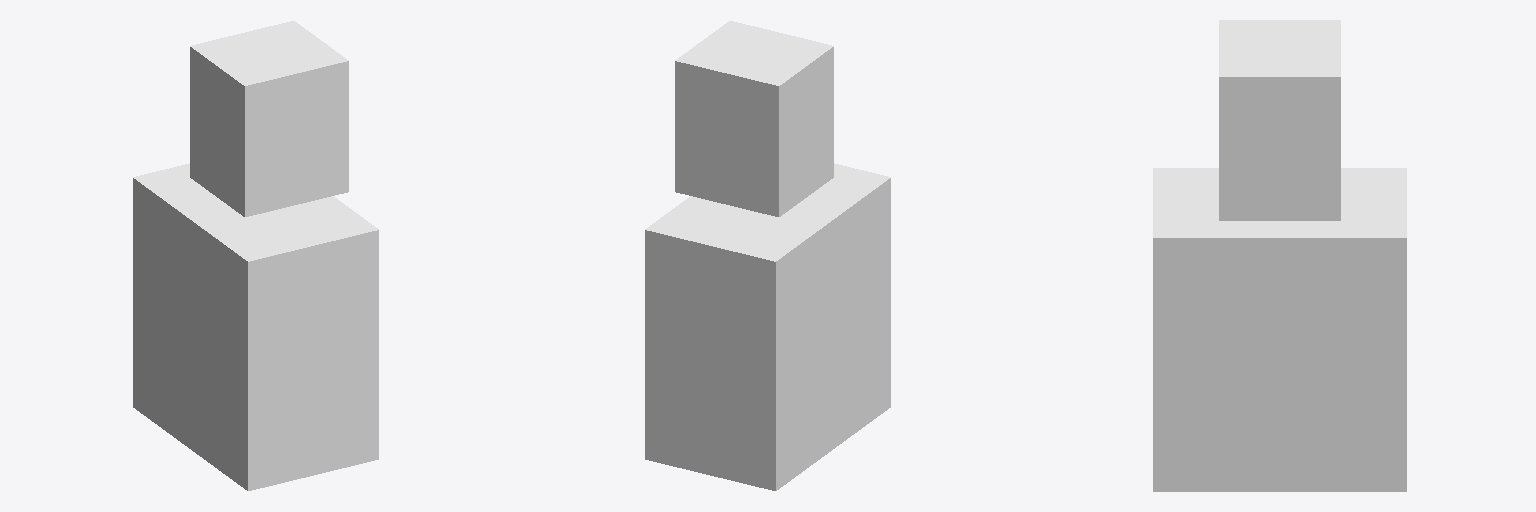
URDF robot description (yubi_hands):
<?xml version="1.0"?>
<!-- Expanded by hand from airoa-org/yubi-sw yubi_description/urdf/yubi_hand.urdf.xacro
     (collision geometry dropped; mesh paths point at package://yubi_description/meshes) -->
<robot name="yubi_hands">
  <material name="yubi_gray">
    <color rgba="1.0 1.0 1.0 1"/>
  </material>

  <link name="quest_origin"/>
  <link name="quest_right_controller"/>
  <link name="quest_left_controller"/>

  <!-- right hand -->
  <link name="right_hand_root">
    <visual>
      <origin xyz="-0.022 0 -0.02015" rpy="0 0 0"/>
      <geometry><box size="0.044 0.067 0.0735"/></geometry>
      <material name="yubi_gray"/>
    </visual>
  </link>
  <joint name="right_camera_joint" type="fixed">
    <origin xyz="0 0 0.0426" rpy="0 0 0"/>
    <parent link="right_hand_root"/>
    <child link="right_hand_cam_link"/>
  </joint>
  <link name="right_hand_cam_link">
    <visual>
      <origin xyz="-0.0175 0 0" rpy="0 0 0"/>
      <geometry><box size="0.035 0.032 0.042"/></geometry>
      <material name="yubi_gray"/>
    </visual>
  </link>
  <joint name="right_right_finger_joint" type="revolute">
    <origin xyz="-0.016 -0.015 0" rpy="0 0 0"/>
    <parent link="right_hand_root"/>
    <child link="right_right_finger_link"/>
    <axis xyz="0 0 -1"/>
    <limit lower="0.00" upper="0.94" effort="5" velocity="2"/>
  </joint>
  <link name="right_right_finger_link">
    <visual>
      <origin xyz="0 0 0" rpy="0 0 0"/>
      <geometry><mesh filename="package://yubi_description/meshes/yubi/hand_right_right_finger_link.STL"/></geometry>
      <material name="yubi_gray"/>
    </visual>
  </link>
  <joint name="right_right_finger_tip_joint" type="fixed">
    <origin xyz="0.10943 -0.014 0" rpy="0 0 0"/>
    <parent link="right_right_finger_link"/>
    <child link="right_right_finger_tip_link"/>
  </joint>
  <link name="right_right_finger_tip_link"/>
  <joint name="right_left_finger_joint" type="revolute">
    <origin xyz="-0.016 0.015 0" rpy="0 0 0"/>
    <parent link="right_hand_root"/>
    <child link="right_left_finger_link"/>
    <axis xyz="0 0 -1"/>
    <limit lower="-0.94" upper="0.00" effort="5" velocity="2"/>
    <mimic joint="right_right_finger_joint" multiplier="-1" offset="0"/>
  </joint>
  <link name="right_left_finger_link">
    <visual>
      <origin xyz="0 0 0" rpy="0 0 0"/>
      <geometry><mesh filename="package://yubi_description/meshes/yubi/hand_right_left_finger_link.STL"/></geometry>
      <material name="yubi_gray"/>
    </visual>
  </link>
  <joint name="right_left_finger_tip_joint" type="fixed">
    <origin xyz="0.10943 0.014 0" rpy="0 0 0"/>
    <parent link="right_left_finger_link"/>
    <child link="right_left_finger_tip_link"/>
  </joint>
  <link name="right_left_finger_tip_link"/>

  <!-- left hand -->
  <link name="left_hand_root">
    <visual>
      <origin xyz="-0.022 0 -0.02015" rpy="0 0 0"/>
      <geometry><box size="0.044 0.067 0.0735"/></geometry>
      <material name="yubi_gray"/>
    </visual>
  </link>
  <joint name="left_camera_joint" type="fixed">
    <origin xyz="0 0 0.0426" rpy="0 0 0"/>
    <parent link="left_hand_root"/>
    <child link="left_hand_cam_link"/>
  </joint>
  <link name="left_hand_cam_link">
    <visual>
      <origin xyz="-0.0175 0 0" rpy="0 0 0"/>
      <geometry><box size="0.035 0.032 0.042"/></geometry>
      <material name="yubi_gray"/>
    </visual>
  </link>
  <joint name="left_right_finger_joint" type="revolute">
    <origin xyz="-0.016 -0.015 0" rpy="0 0 0"/>
    <parent link="left_hand_root"/>
    <child link="left_right_finger_link"/>
    <axis xyz="0 0 -1"/>
    <limit lower="0.00" upper="0.94" effort="5" velocity="2"/>
  </joint>
  <link name="left_right_finger_link">
    <visual>
      <origin xyz="0 0 0" rpy="0 0 0"/>
      <geometry><mesh filename="package://yubi_description/meshes/yubi/hand_left_right_finger_link.STL"/></geometry>
      <material name="yubi_gray"/>
    </visual>
  </link>
  <joint name="left_right_finger_tip_joint" type="fixed">
    <origin xyz="0.10943 -0.014 0" rpy="0 0 0"/>
    <parent link="left_right_finger_link"/>
    <child link="left_right_finger_tip_link"/>
  </joint>
  <link name="left_right_finger_tip_link"/>
  <joint name="left_left_finger_joint" type="revolute">
    <origin xyz="-0.016 0.015 0" rpy="0 0 0"/>
    <parent link="left_hand_root"/>
    <child link="left_left_finger_link"/>
    <axis xyz="0 0 -1"/>
    <limit lower="-0.94" upper="0.00" effort="5" velocity="2"/>
    <mimic joint="left_right_finger_joint" multiplier="-1" offset="0"/>
  </joint>
  <link name="left_left_finger_link">
    <visual>
      <origin xyz="0 0 0" rpy="0 0 0"/>
      <geometry><mesh filename="package://yubi_description/meshes/yubi/hand_left_left_finger_link.STL"/></geometry>
      <material name="yubi_gray"/>
    </visual>
  </link>
  <joint name="left_left_finger_tip_joint" type="fixed">
    <origin xyz="0.10943 0.014 0" rpy="0 0 0"/>
    <parent link="left_left_finger_link"/>
    <child link="left_left_finger_tip_link"/>
  </joint>
  <link name="left_left_finger_tip_link"/>

  <joint name="quest_origin_to_left" type="floating">
    <origin xyz="0 0 0" rpy="0 0 0"/>
    <parent link="quest_origin"/>
    <child link="left_hand_root"/>
  </joint>
  <joint name="quest_origin_to_right" type="floating">
    <origin xyz="0 0 0" rpy="0 0 0"/>
    <parent link="quest_origin"/>
    <child link="right_hand_root"/>
  </joint>
  <joint name="right_mount_joint" type="fixed">
    <origin xyz="-0.063 -0.016 0.0525" rpy="0 -0.7853981633974483 -0.7853981633974483"/>
    <parent link="right_hand_root"/>
    <child link="quest_right_controller"/>
  </joint>
  <joint name="left_mount_joint" type="fixed">
    <origin xyz="-0.063 0.016 0.0525" rpy="0 -0.7853981633974483 0.7853981633974483"/>
    <parent link="left_hand_root"/>
    <child link="quest_left_controller"/>
  </joint>
</robot>

--- What the picture shows (computed from the rendered views, not written in the file) ---
3 views of the same robot in one strip: view 1: azimuth 30°, elevation 25°; view 2: azimuth 150°, elevation 25°; view 3: azimuth 270°, elevation 25° (orthographic).
Model yubi_hands with 15 links and 14 joints (4 revolute, 8 fixed, 2 floating), rooted at quest_origin, posed every joint at zero.
Visible links, largest first — view 1: right_hand_root, right_hand_cam_link; view 2: right_hand_root, right_hand_cam_link; view 3: right_hand_root, right_hand_cam_link.
Link boxes in pixels (x1,y1,x2,y2): right_hand_root: (133,163,378,490); right_hand_cam_link: (190,21,348,216); right_hand_root: (645,163,890,490); right_hand_cam_link: (675,21,833,216); right_hand_root: (1153,168,1406,491); right_hand_cam_link: (1219,20,1340,220).
Size in the robot's own frame: 0.044 by 0.067 by 0.1205 metres.
0 mesh visuals loaded from 4 distinct referenced files (none loaded); not drawn: 4 (reference not matched to a file when rendering).
